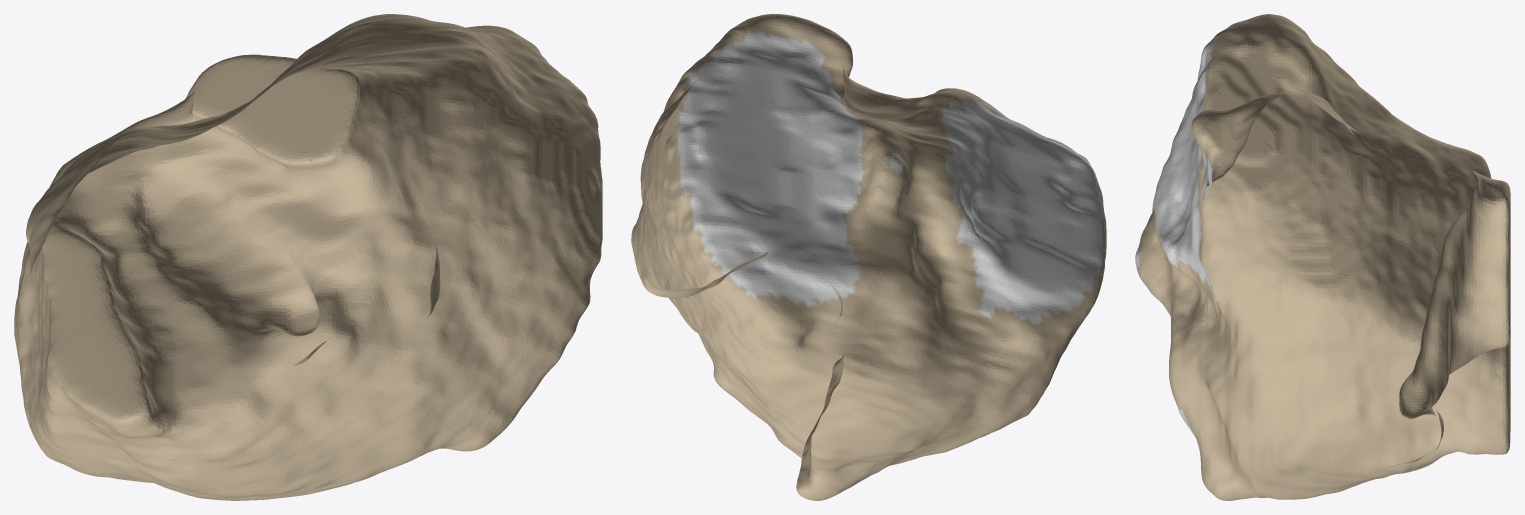
File: tibia.glb
3 views of the same model, side by side, from view 1: azimuth 30°, elevation 25°; view 2: azimuth 150°, elevation 25°; view 3: azimuth 270°, elevation 25° (orthographic). The views are drawn at different scales.
Parts seen in each view (by area): view 1: geometry_0; view 2: geometry_0; view 3: geometry_0.
Boxes of the visible parts, bbox=[...] form: geometry_0: bbox=[14, 14, 602, 500]; geometry_0: bbox=[631, 14, 1106, 500]; geometry_0: bbox=[1135, 14, 1510, 500].
Bounding box in the file's own units: 81.95 × 66.35 × 54.52.
